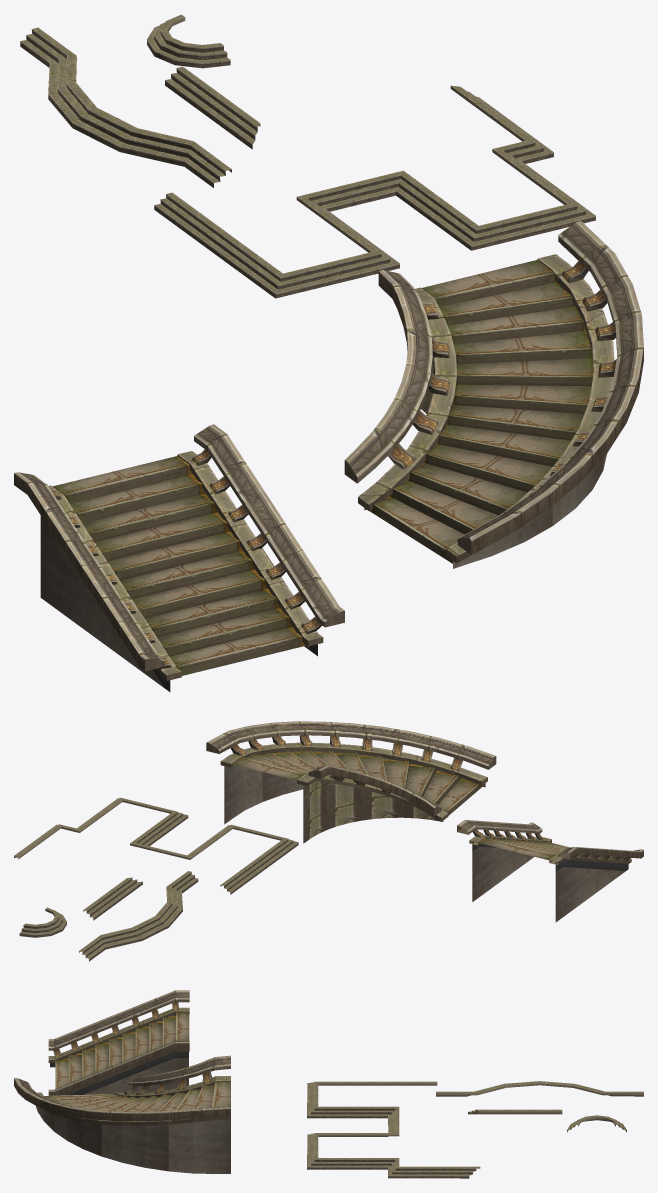
The model's file is f_1001_Stairs.FBX.
3 renders of one model, top to bottom at view 1: azimuth 30°, elevation 25°; view 2: azimuth 150°, elevation 25°; view 3: azimuth 270°, elevation 25°, orthographic. The views are drawn at different scales.
Visible parts, largest first — view 1: f_1001_Stairs02, f_1001_Stairs01, f_1001_Stairs03, f_1001_Stairs006, f_1001_Stairs04, f_1001_Stairs05; view 2: f_1001_Stairs02, f_1001_Stairs01, f_1001_Stairs03, f_1001_Stairs006, f_1001_Stairs04, f_1001_Stairs05; view 3: f_1001_Stairs02, f_1001_Stairs01, f_1001_Stairs03, f_1001_Stairs006, f_1001_Stairs04, f_1001_Stairs05.
Part boxes in pixels (x1,y1,x2,y2): f_1001_Stairs02: (344, 221, 643, 568); f_1001_Stairs01: (14, 424, 344, 691); f_1001_Stairs03: (154, 85, 595, 298); f_1001_Stairs006: (20, 27, 231, 187); f_1001_Stairs04: (165, 66, 260, 149); f_1001_Stairs05: (147, 14, 230, 68); f_1001_Stairs02: (206, 721, 496, 843); f_1001_Stairs01: (457, 820, 643, 922); f_1001_Stairs03: (14, 798, 298, 894); f_1001_Stairs006: (79, 871, 198, 961); f_1001_Stairs04: (83, 877, 142, 920); f_1001_Stairs05: (19, 907, 66, 937); f_1001_Stairs02: (14, 1055, 230, 1173); f_1001_Stairs01: (48, 990, 189, 1095); f_1001_Stairs03: (307, 1081, 480, 1178); f_1001_Stairs006: (436, 1081, 643, 1096); f_1001_Stairs04: (468, 1109, 562, 1114); f_1001_Stairs05: (567, 1115, 626, 1132).
Size of the model in its own units: 3765 by 1026 by 5274.
Materials: 1 (1 with a texture image).
